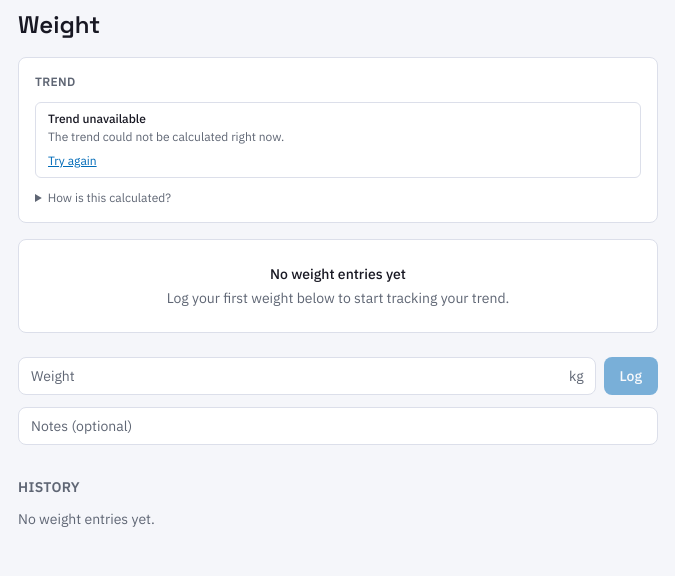
Test case: WeightLogPage — log form › shows API error when log-weight fails
Expected: the button "Log" is shown, [604,357,658,395]
Type "85" into the number field labelled "Weight" at (307, 376), box [18,357,596,395]
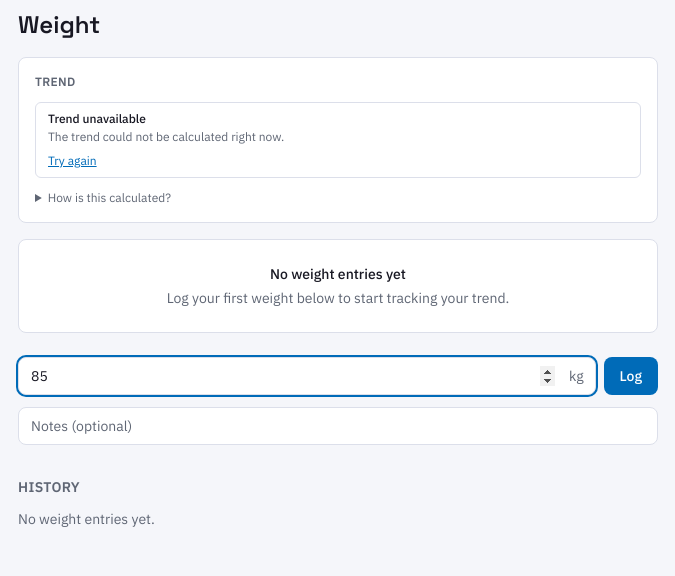
Click the button "Log" at (631, 376), box [604,357,658,395]
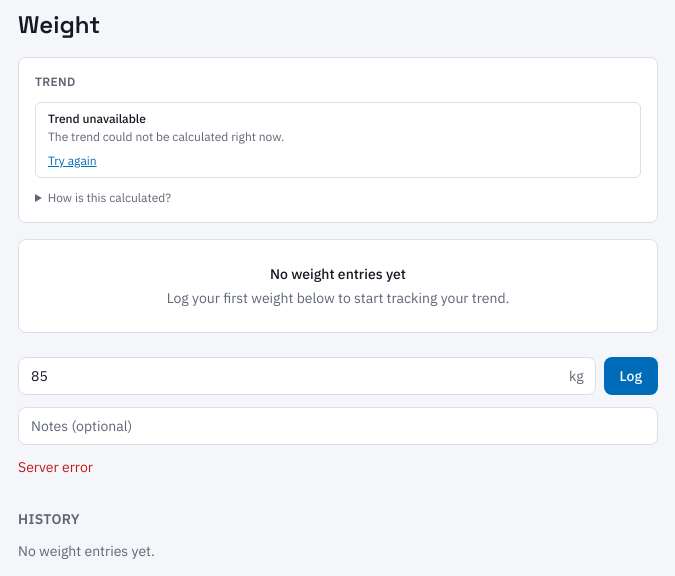
Expected: the text "Server error" is shown, [18,458,93,476]
